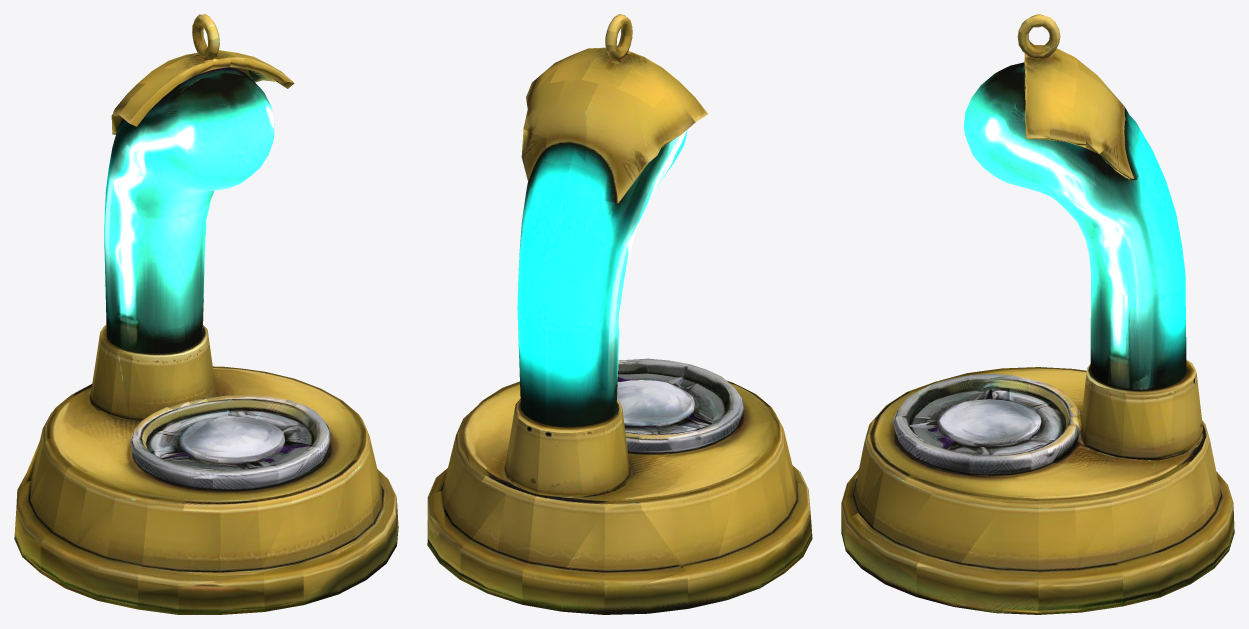
Rendered from mercury_vapor.glb.
3 renders of one model, left to right at view 1: azimuth 30°, elevation 25°; view 2: azimuth 150°, elevation 25°; view 3: azimuth 270°, elevation 25°, orthographic.
Bounding box in the file's own units: 0.6719 × 1 × 0.6875.
Materials: 1 (1 with a texture image).
